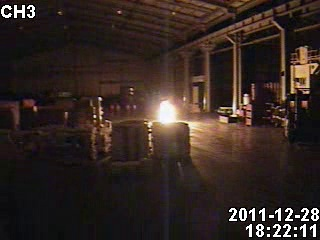fire: (155, 94, 179, 126)
